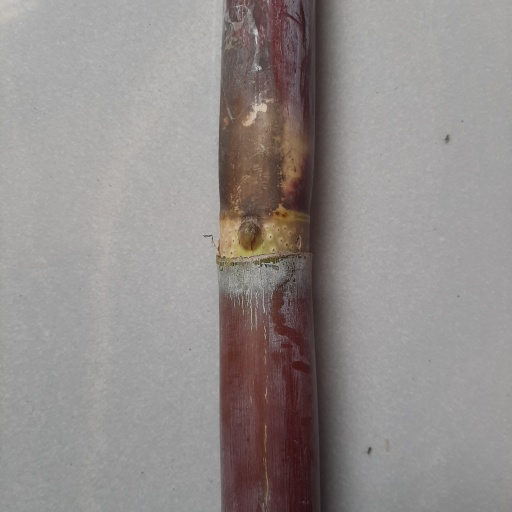Bud: (237, 221, 263, 253)
